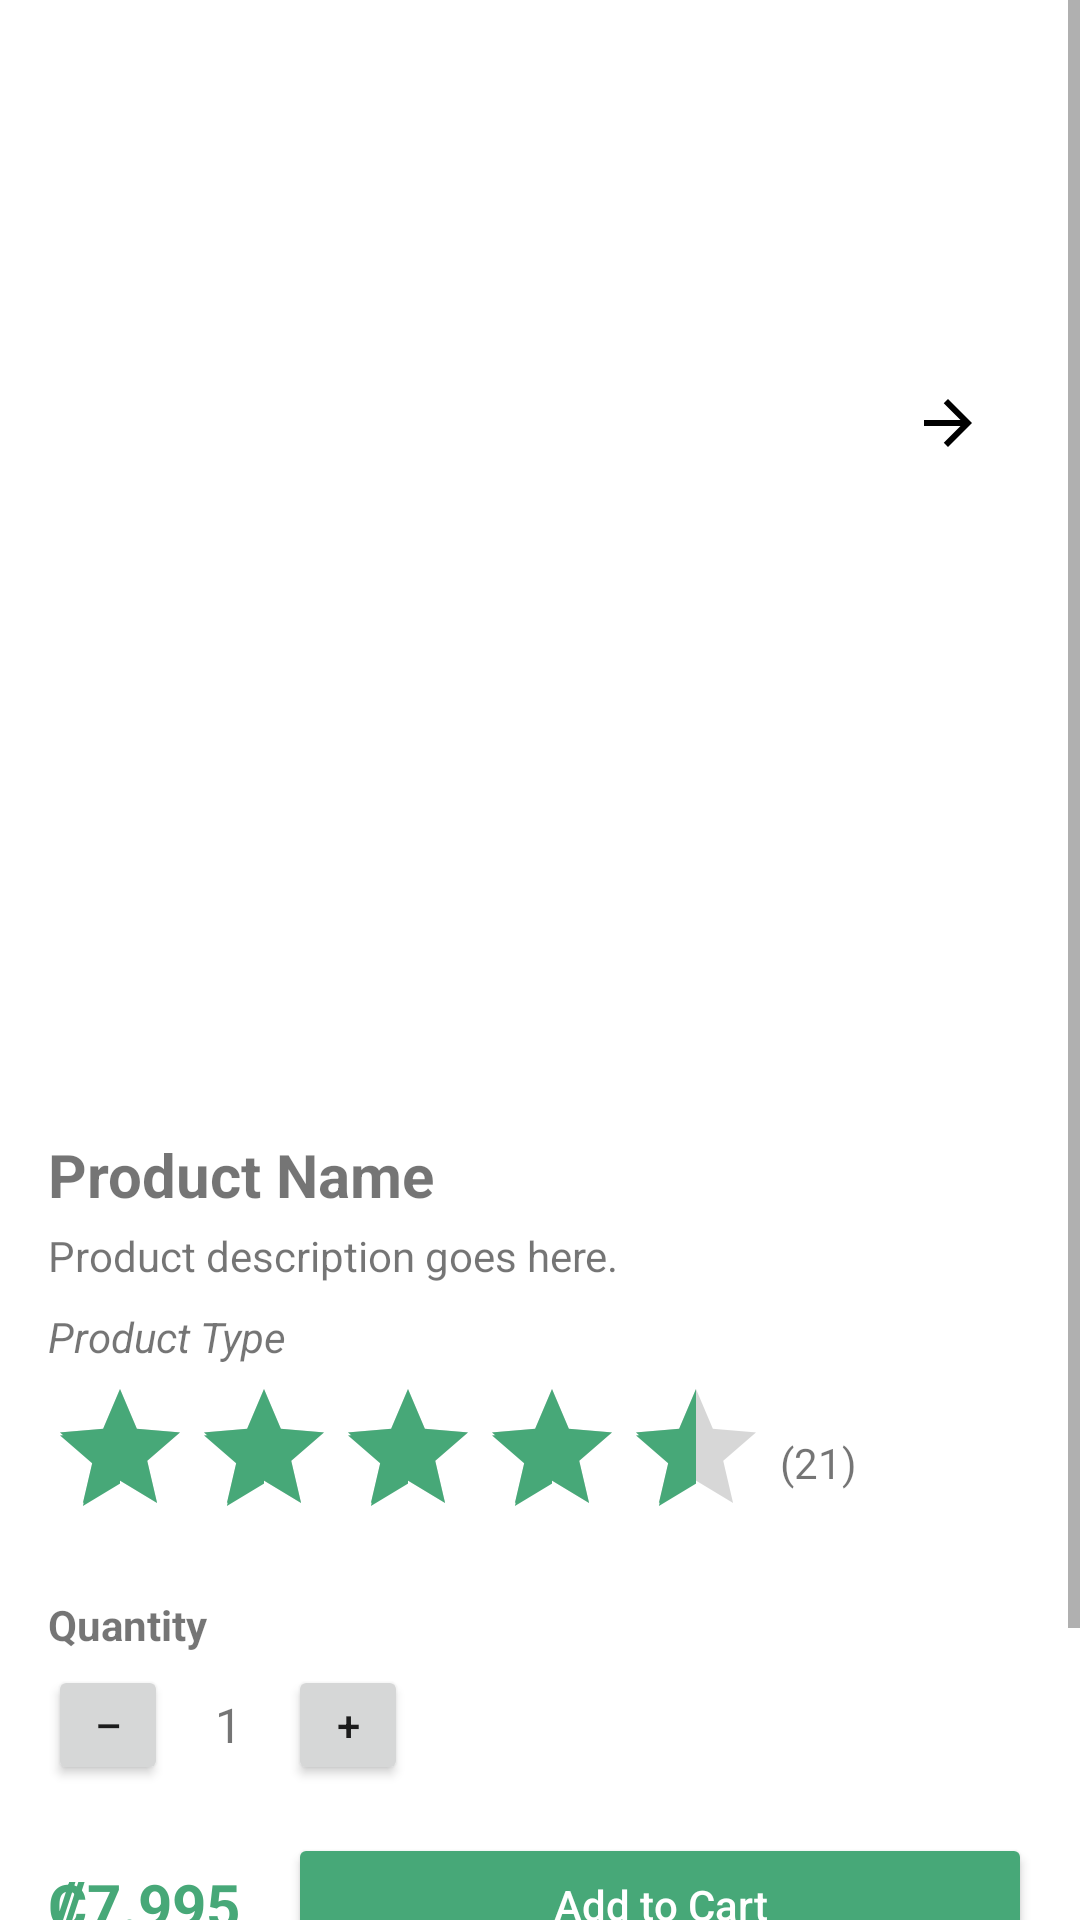

Where icons sit on this 1080px×1920px app screen, as (x1,y1,x2,y2):
arrow right: (924,399,972,447)
